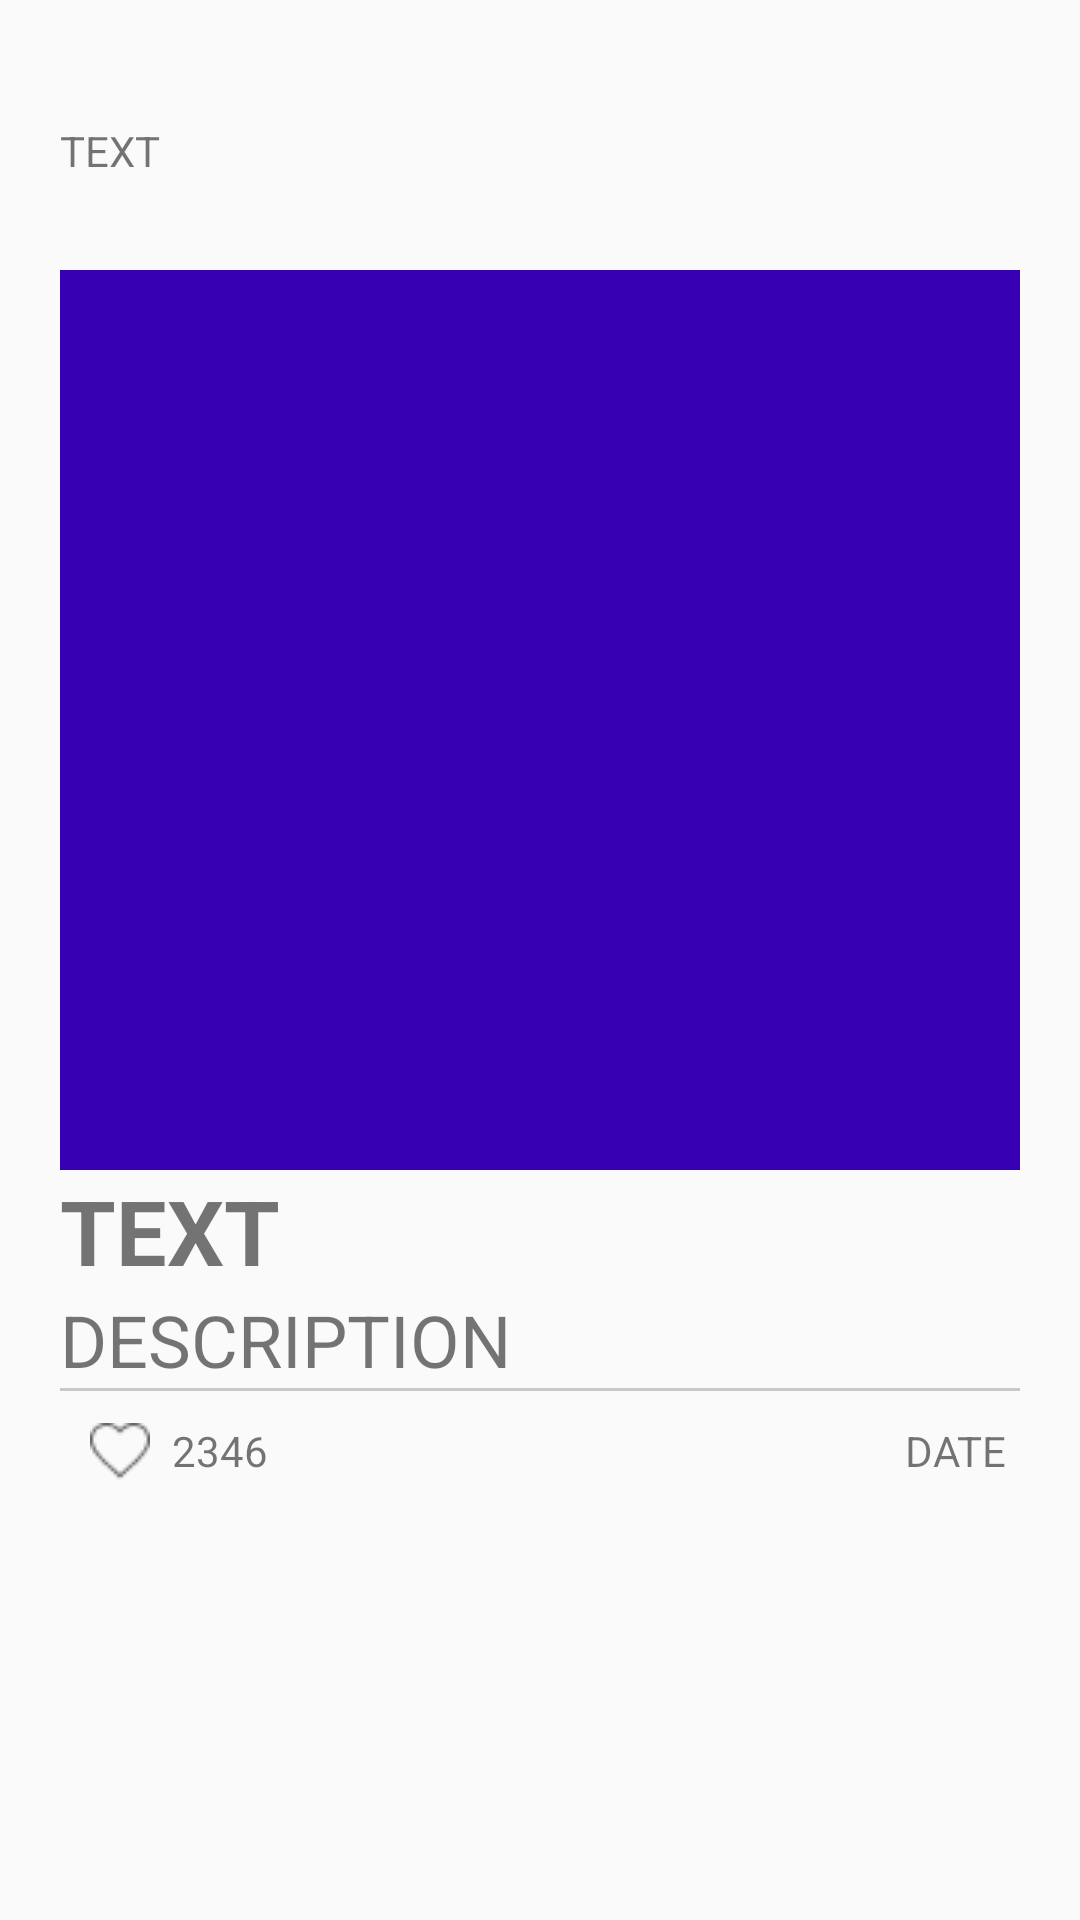

Named icons in this screenshot (1080 × 1920) and their bounding boxes, (left=x1, top=y1, right=x2, bottom=y2):
like news: (left=90, top=1423, right=150, bottom=1478)
